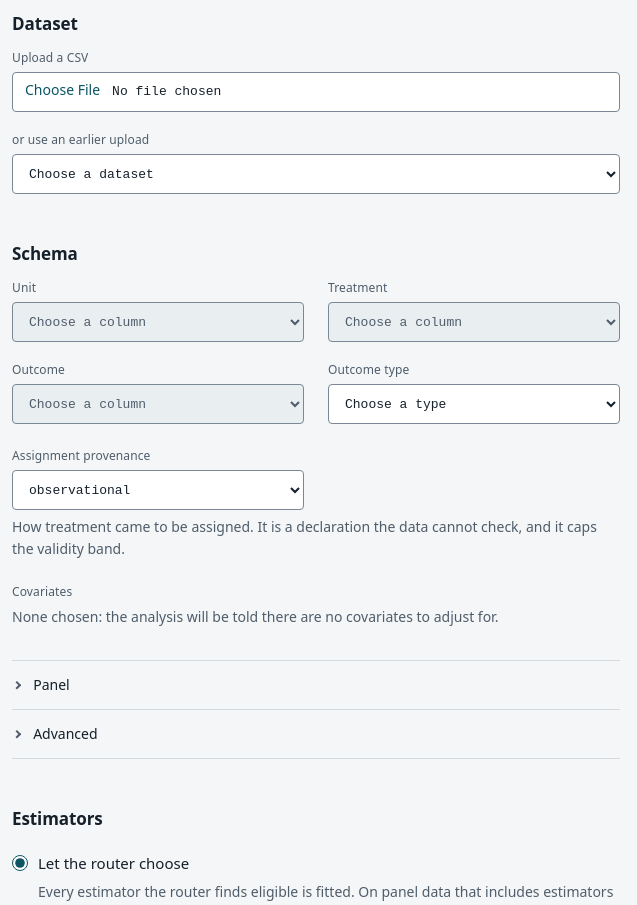
Scenario: the earlier-upload select › drops a late response for an earlier pick
Select "a.csv (1 KB)" in the dropdown labelled "or use an earlier upload" at (316, 174), box [12,154,620,194]
Select "b.csv (1 KB)" in the dropdown labelled "or use an earlier upload" at (316, 174), box [12,154,620,194]
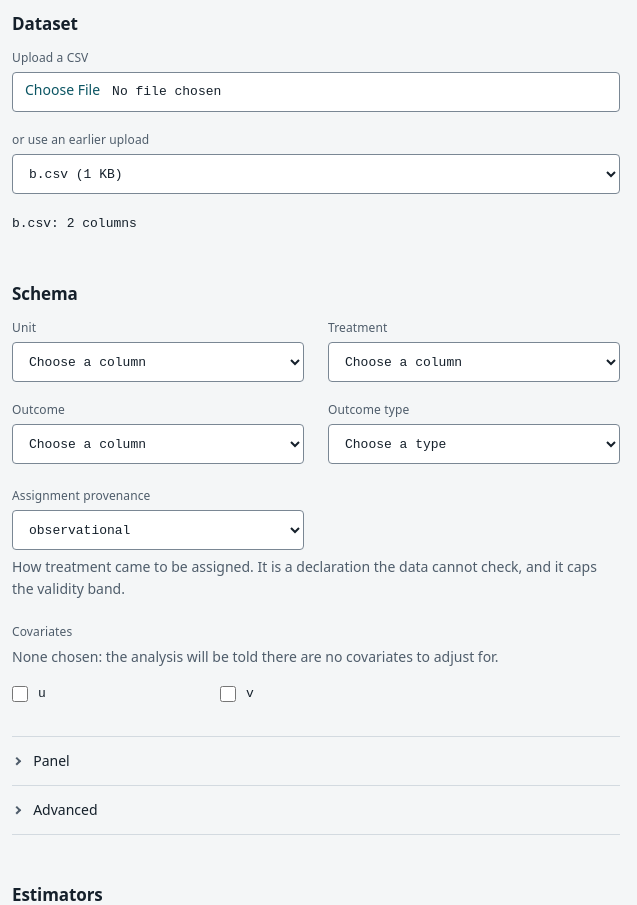
Check: the text "b.csv: 2 columns" is shown, box [12,216,137,231]
